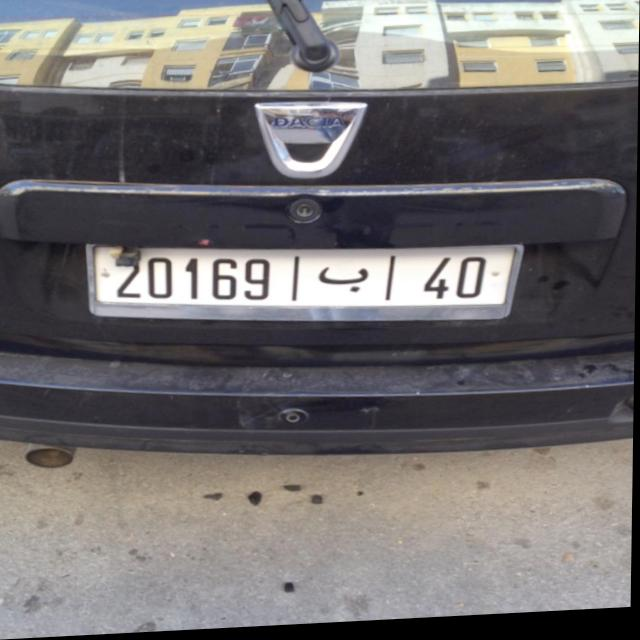License-Plate: (90, 247, 520, 318)
